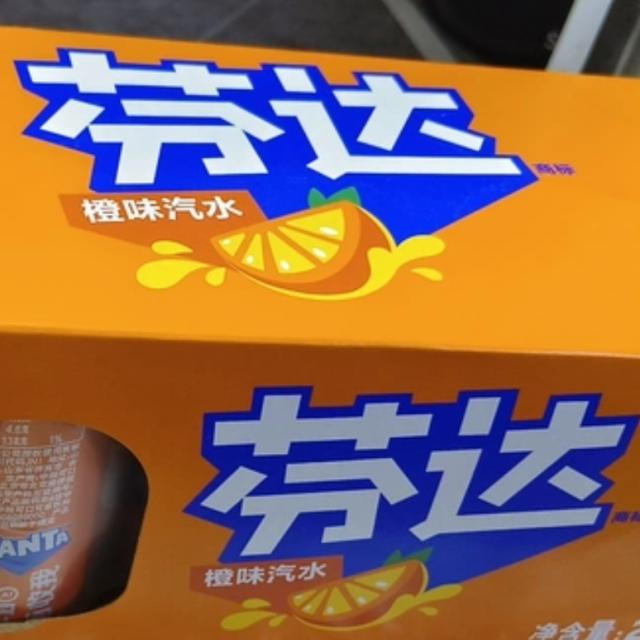orange: (11, 26, 592, 336), (188, 373, 640, 635)
